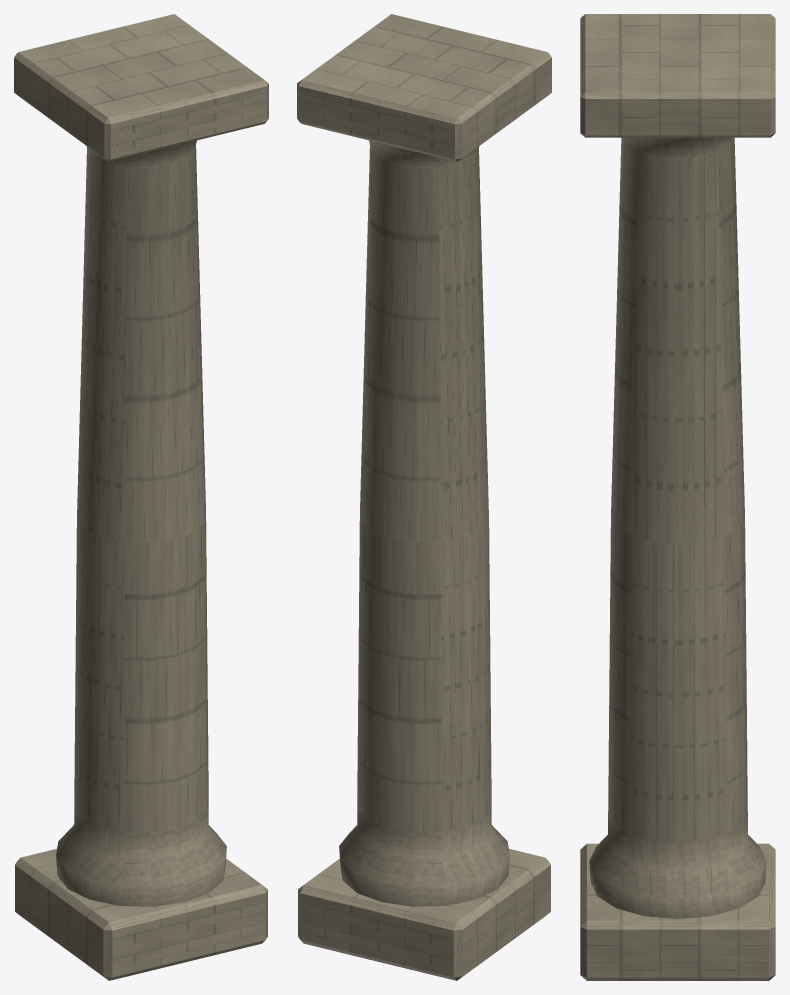
The model's file is module-column-tuscan.glb.
3 views of the same model, side by side, from view 1: azimuth 30°, elevation 25°; view 2: azimuth 150°, elevation 25°; view 3: azimuth 270°, elevation 25° (orthographic). The views are drawn at different scales.
Parts seen in each view (by area): view 1: module-column-tuscan; view 2: module-column-tuscan; view 3: module-column-tuscan.
Part boxes in pixels (x1=…): module-column-tuscan: x1=14, y1=14, x2=268, y2=980; module-column-tuscan: x1=297, y1=14, x2=551, y2=980; module-column-tuscan: x1=580, y1=14, x2=775, y2=980.
Bounding box in the file's own units: 0.588 × 2.95 × 0.588.
1 material, 1 textured.
